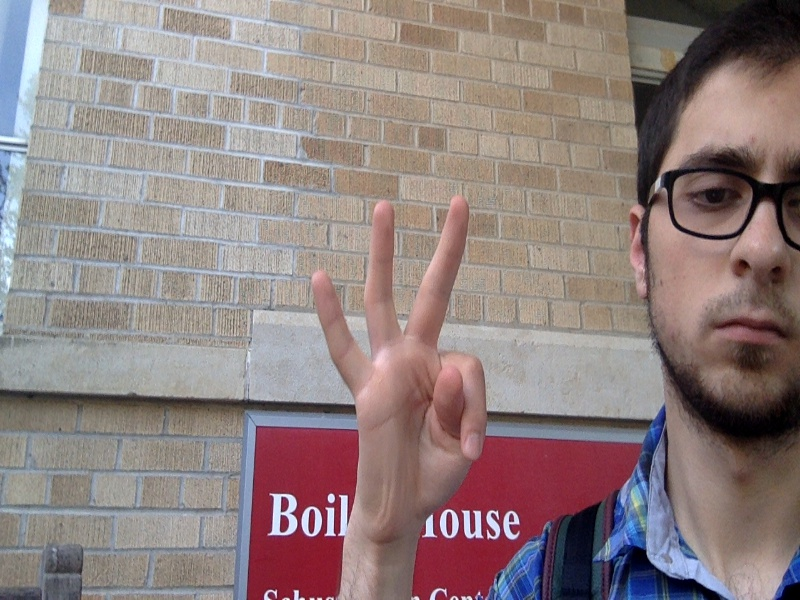3-hand: (309, 197, 485, 553)
